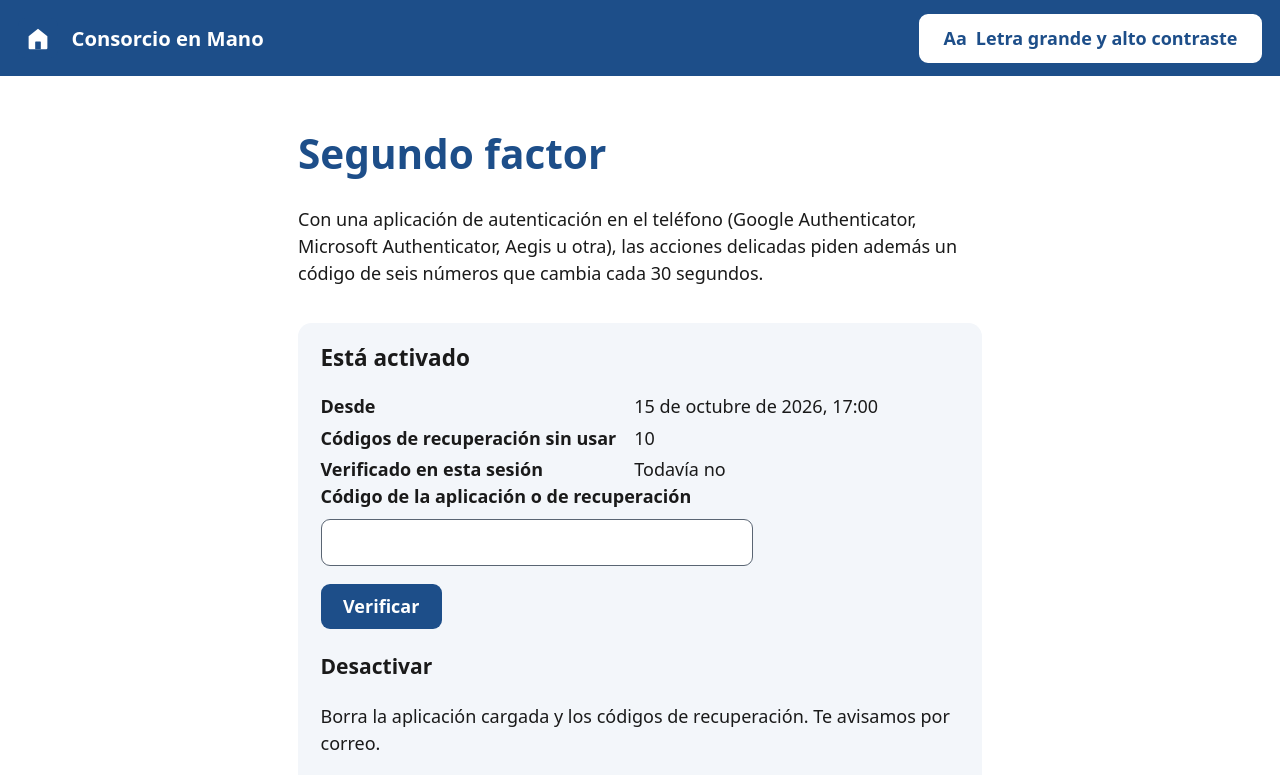
Test case: página /cuenta/segundo-factor › verifica con un código de recuperación escrito como venga y actualiza lo que queda
Expected: the heading "Está activado" is shown, [320,342,470,373]
Expected: the text "Todavía no" is shown, [634,457,726,481]
In the field labelled "Código de la aplicación o de recuperación": (536, 543) [320,519,752,566], type " K7M2Q X9P4T "
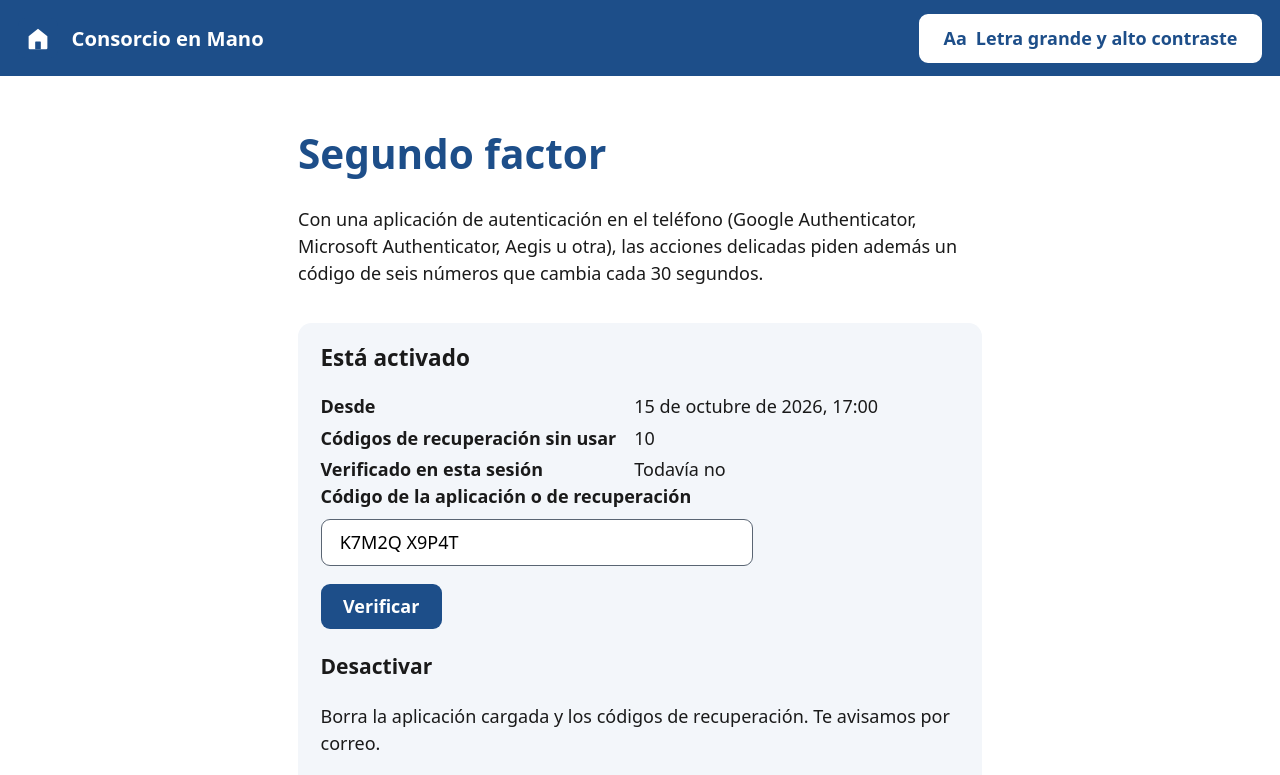
Click the button "Verificar": (381, 607) [320,584,442,629]
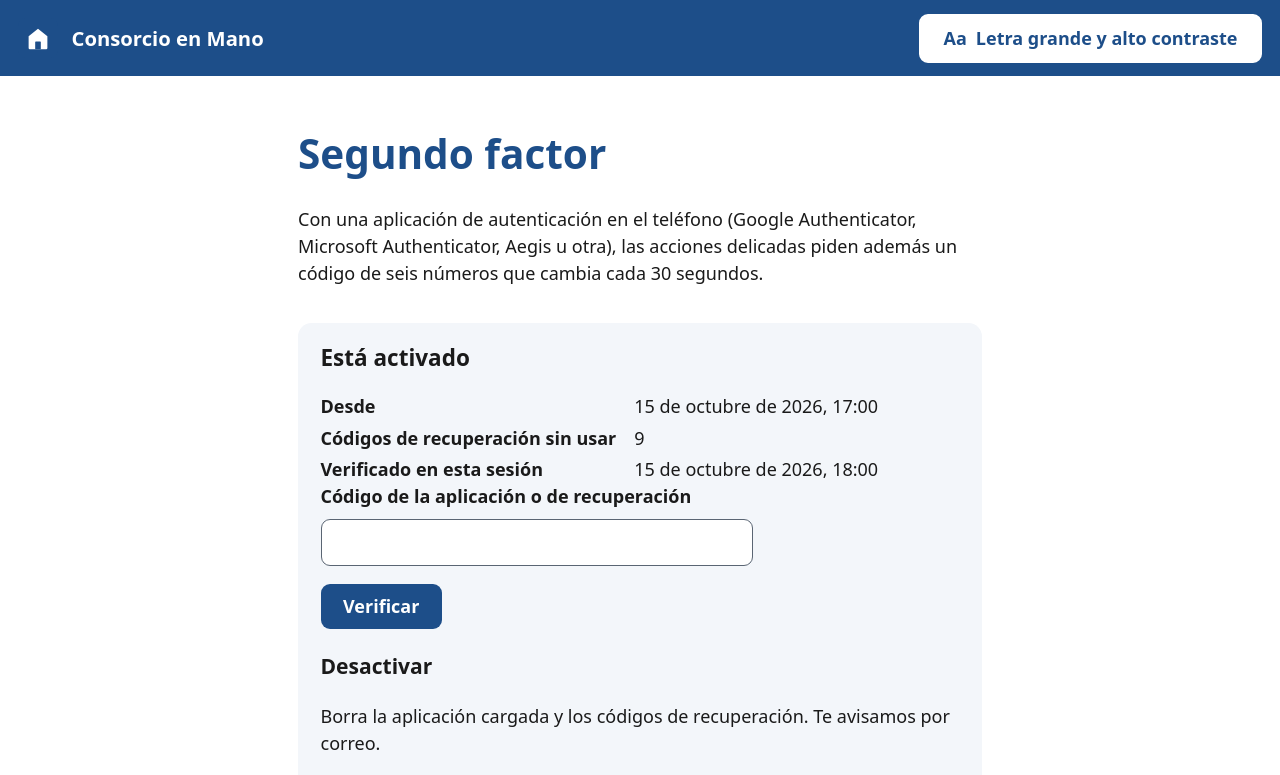
Now the text "9" is shown, box [634,426,645,450]
Now the text "Todavía no" is gone
